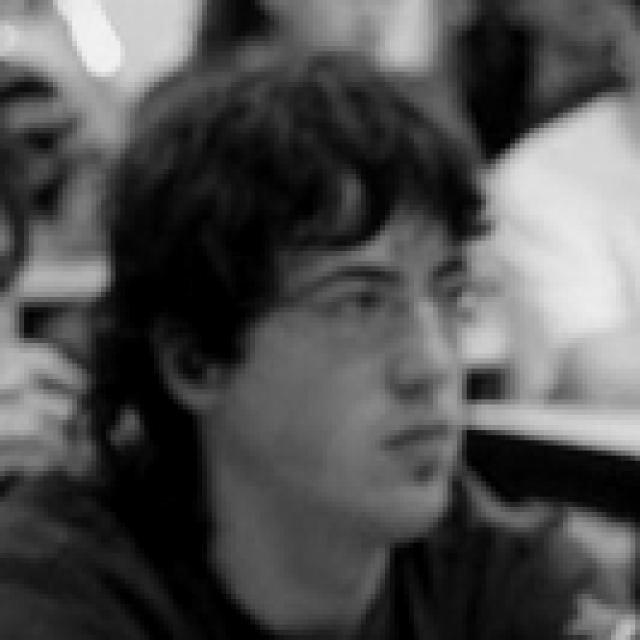Looking forward: (205, 185, 474, 548)
